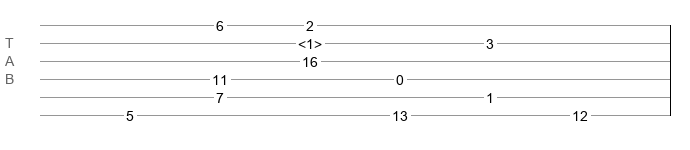0: (396, 72, 404, 82)
1: (486, 90, 494, 100)
11: (212, 72, 228, 82)
12: (572, 108, 588, 118)
13: (392, 108, 408, 118)
16: (302, 54, 318, 64)
2: (306, 18, 314, 28)
3: (486, 36, 494, 46)
5: (126, 108, 134, 118)
6: (216, 18, 224, 28)
7: (216, 90, 224, 100)
harmonic: (298, 36, 322, 46)
